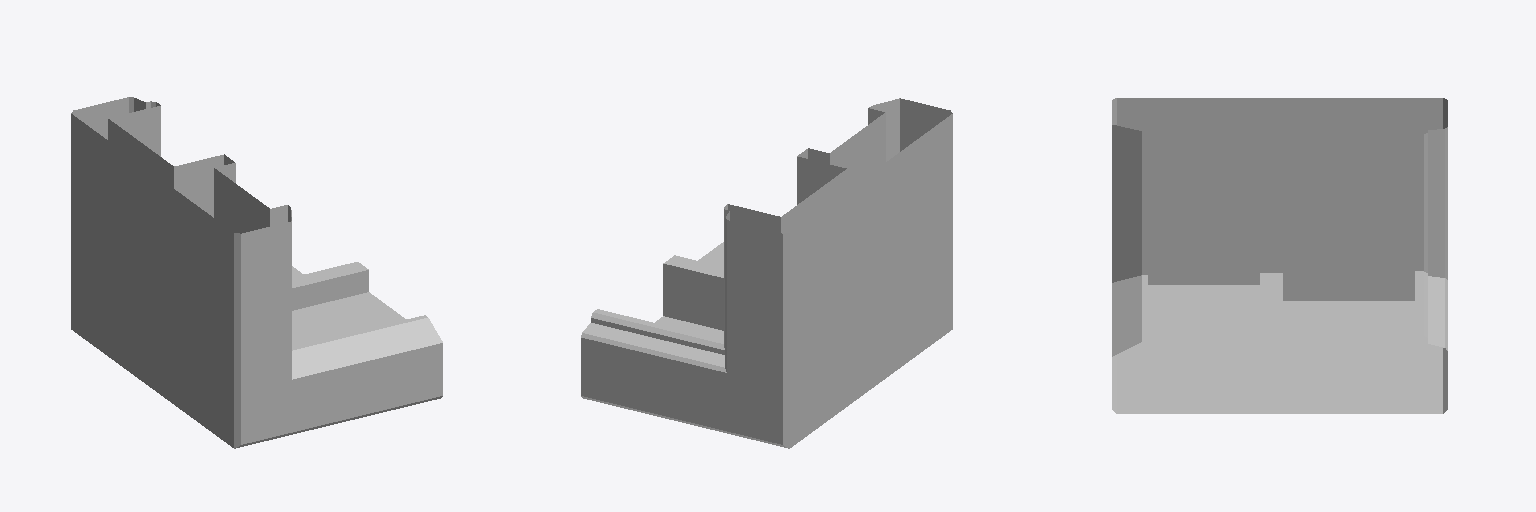
Rendered from original-4.obj.
3 views of the same model, side by side, from view 1: azimuth 30°, elevation 25°; view 2: azimuth 150°, elevation 25°; view 3: azimuth 270°, elevation 25° (orthographic).
Parts seen in each view (by area): view 1: FRAME_BL1/FRAME_BL/mesh17/mesh17-geometry#mesh17-geometry; view 2: FRAME_BL1/FRAME_BL/mesh17/mesh17-geometry#mesh17-geometry; view 3: FRAME_BL1/FRAME_BL/mesh17/mesh17-geometry#mesh17-geometry.
Part boxes in pixels (x1,y1,x2,y2): FRAME_BL1/FRAME_BL/mesh17/mesh17-geometry#mesh17-geometry: (71, 97, 442, 448); FRAME_BL1/FRAME_BL/mesh17/mesh17-geometry#mesh17-geometry: (581, 98, 952, 448); FRAME_BL1/FRAME_BL/mesh17/mesh17-geometry#mesh17-geometry: (1112, 98, 1447, 413).
Size of the model in its own units: 0.0978 by 0.0978 by 0.1378.